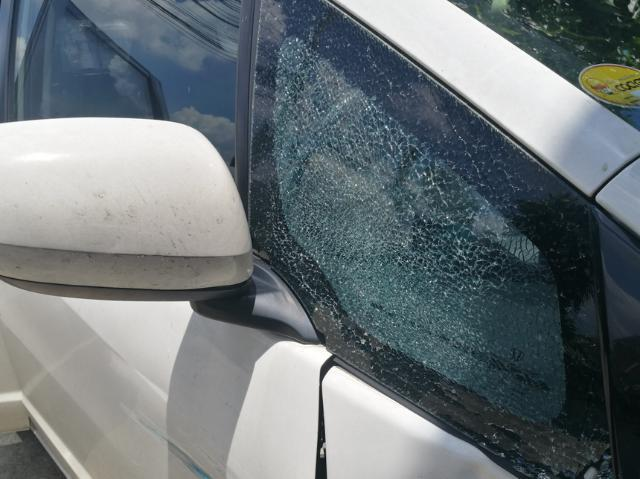Door: (239, 0, 640, 476)
